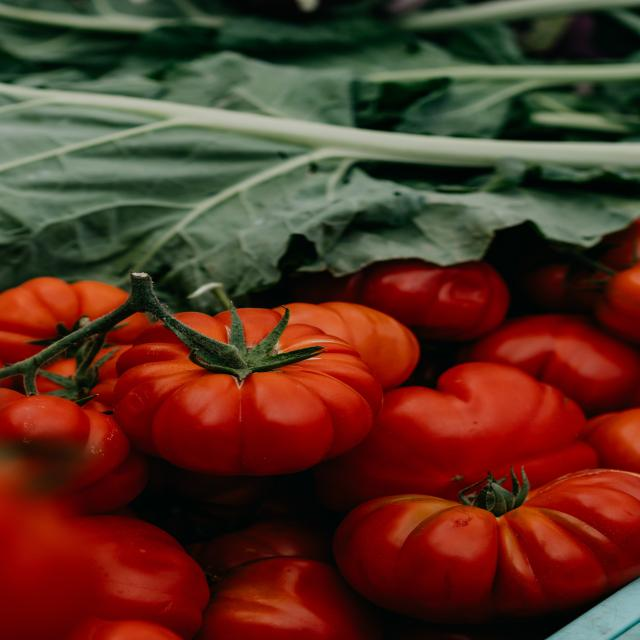Tomato: (353, 457, 640, 614), (118, 307, 374, 467)
